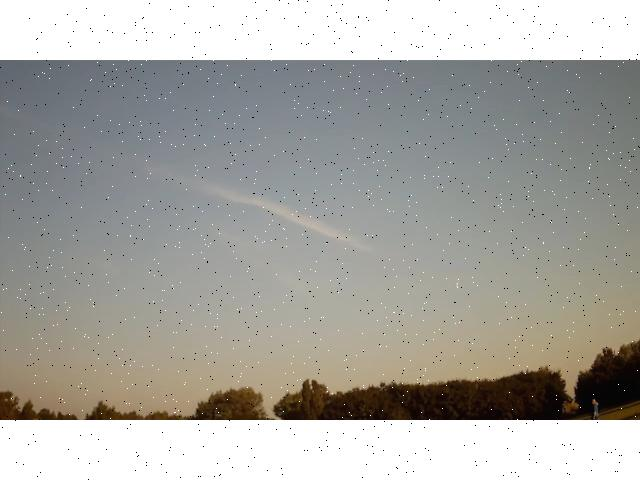Anti-Drone: (450, 281, 462, 290)
